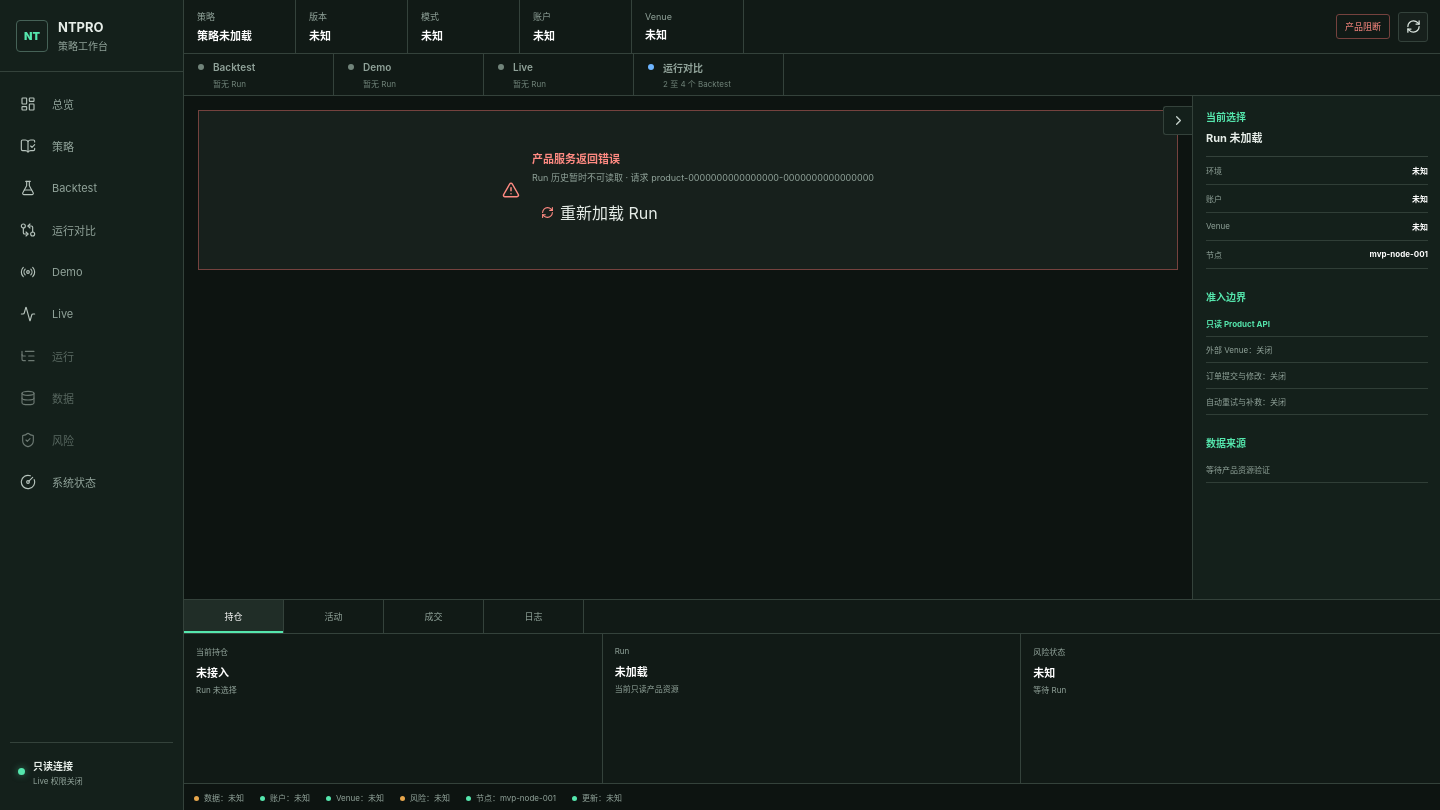
Test: strategy workbench product slice › keeps a failed Run deep link recoverable without automatic retry
Expected: the text "产品服务返回错误" is shown, [532,152,620,166]
Click the button "重新加载 Run".
click(599, 212)  # box [532,194,667,230]
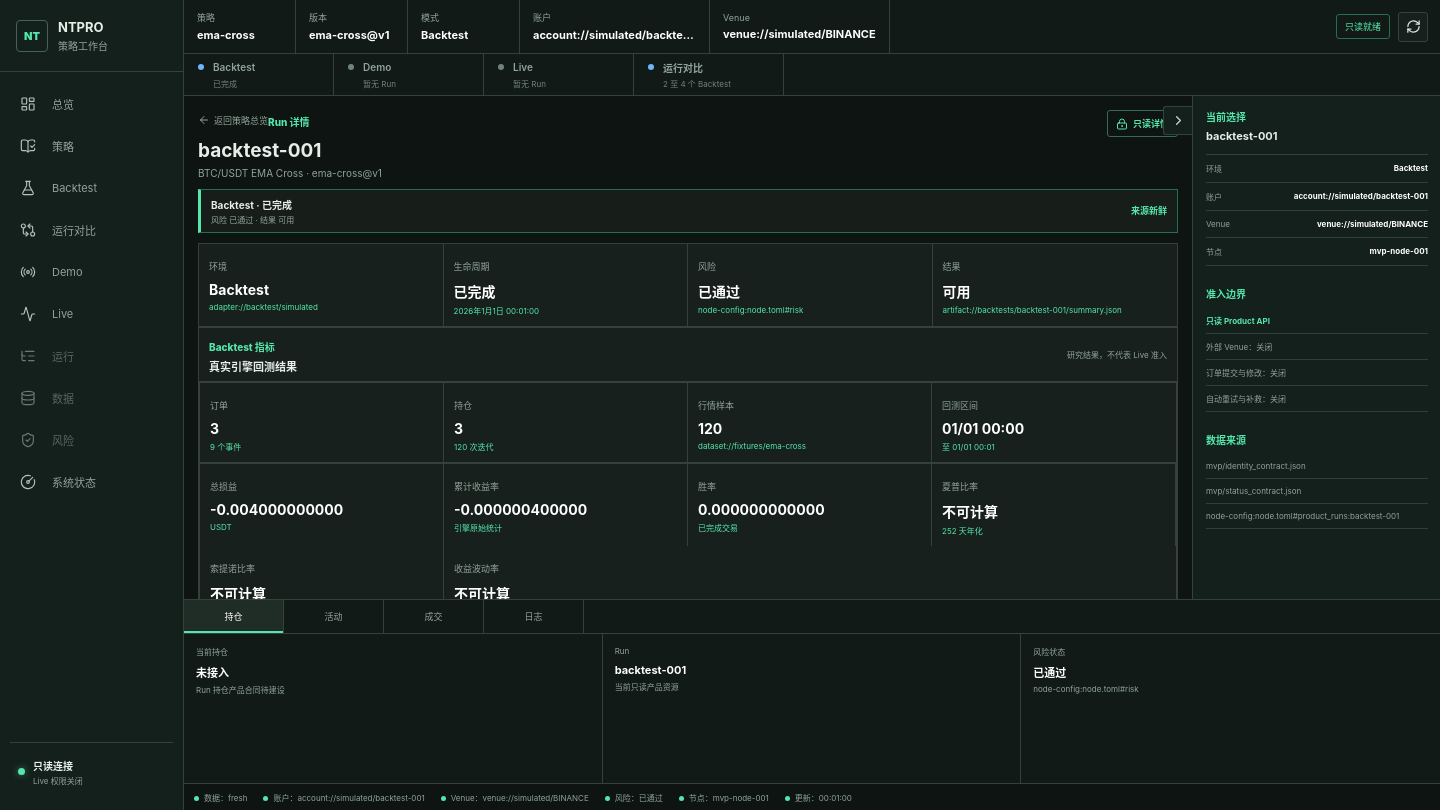
Expected: the heading "backtest-001" is shown, [198,138,322,162]
